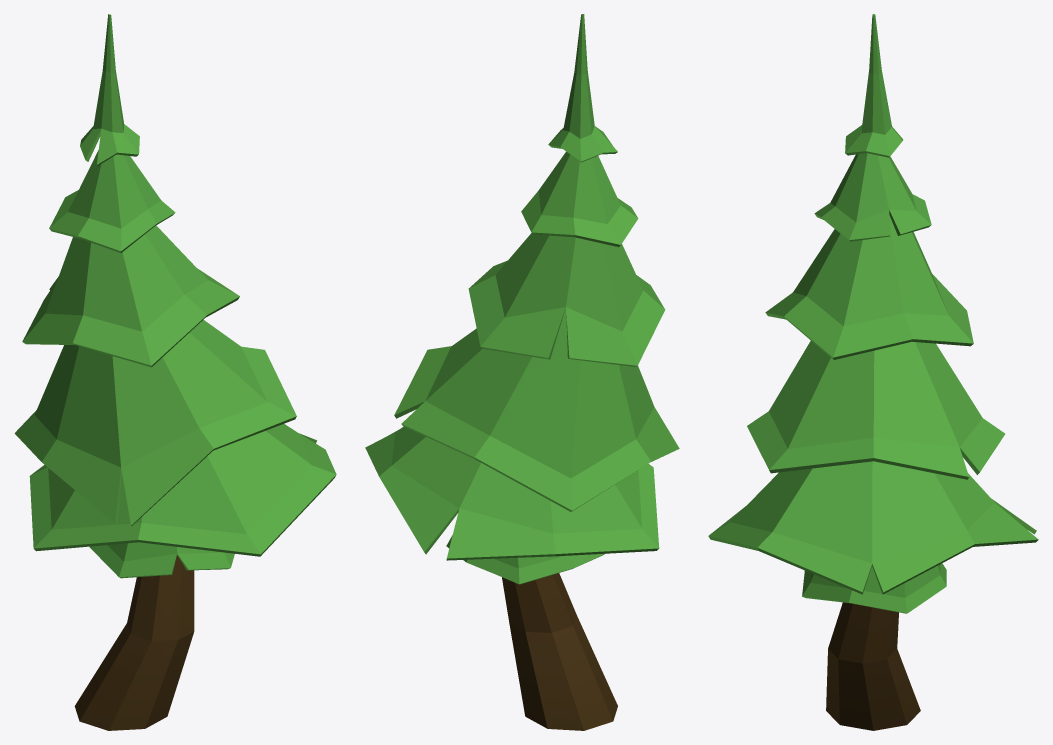
The model's file is tree_1.fbx.
3 renders of one model, left to right at view 1: azimuth 30°, elevation 25°; view 2: azimuth 150°, elevation 25°; view 3: azimuth 270°, elevation 25°, orthographic.
Visible parts, largest first — view 1: leaves, trunk; view 2: leaves, trunk; view 3: leaves, trunk.
Boxes of the visible parts, bbox=[...] form: leaves: bbox=[14, 14, 336, 578]; trunk: bbox=[74, 555, 194, 730]; leaves: bbox=[365, 14, 679, 584]; trunk: bbox=[502, 573, 617, 730]; leaves: bbox=[708, 14, 1038, 613]; trunk: bbox=[826, 602, 920, 730].
Size of the model in its own units: 5.55 by 12.86 by 5.57.
